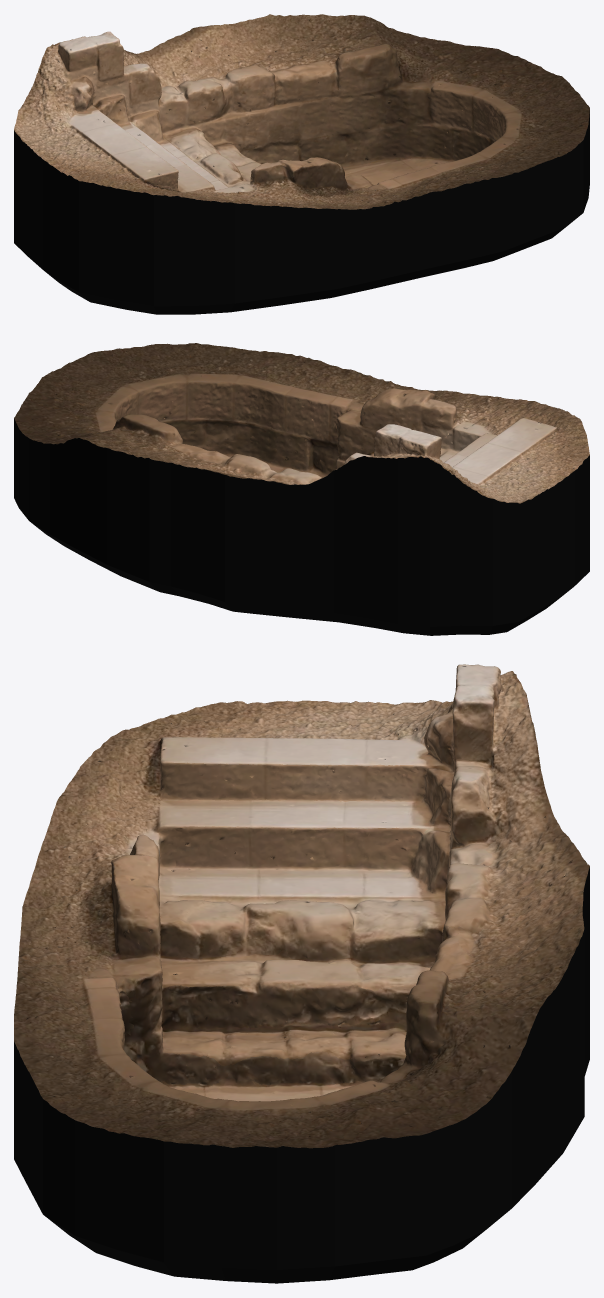
Rendered from preview.glb.
3 views of the same model, one above another, from view 1: azimuth 30°, elevation 25°; view 2: azimuth 150°, elevation 25°; view 3: azimuth 270°, elevation 25° (orthographic). The views are drawn at different scales.
Visible parts, largest first — view 1: Object_3, Object_5; view 2: Object_5, Object_3; view 3: Object_3, Object_5.
Boxes of the visible parts, x1,y1,x2,y2 form: Object_3: [14, 14, 589, 209]; Object_5: [14, 109, 589, 314]; Object_5: [14, 418, 589, 635]; Object_3: [14, 343, 589, 503]; Object_3: [14, 664, 589, 1148]; Object_5: [14, 701, 589, 1283].
Bounding box in the file's own units: 9.25 × 3.22 × 5.72.
Materials: 2 (1 with a texture image).
